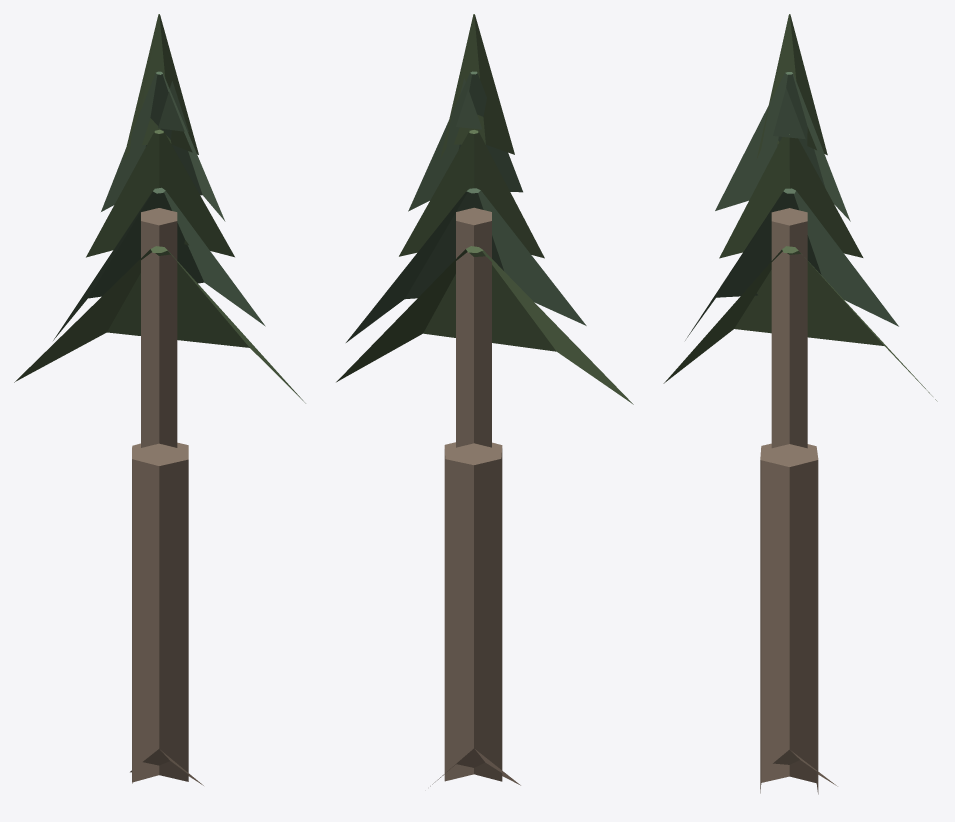
The model's file is shu.hongpi@subadult__summer.glb.
The picture shows the model from 3 angles, left to right: view 1: azimuth 30°, elevation 25°; view 2: azimuth 150°, elevation 25°; view 3: azimuth 270°, elevation 25°; orthographic projection.
Parts seen in each view (by area): view 1: shu.hongpi@subadult__summer; view 2: shu.hongpi@subadult__summer; view 3: shu.hongpi@subadult__summer.
Boxes of the visible parts, x1,y1,x2,y2 form: shu.hongpi@subadult__summer: (14, 14, 305, 785); shu.hongpi@subadult__summer: (336, 14, 633, 786); shu.hongpi@subadult__summer: (663, 14, 937, 794).
Size of the model in its own units: 3.6 by 10.76 by 3.49.
